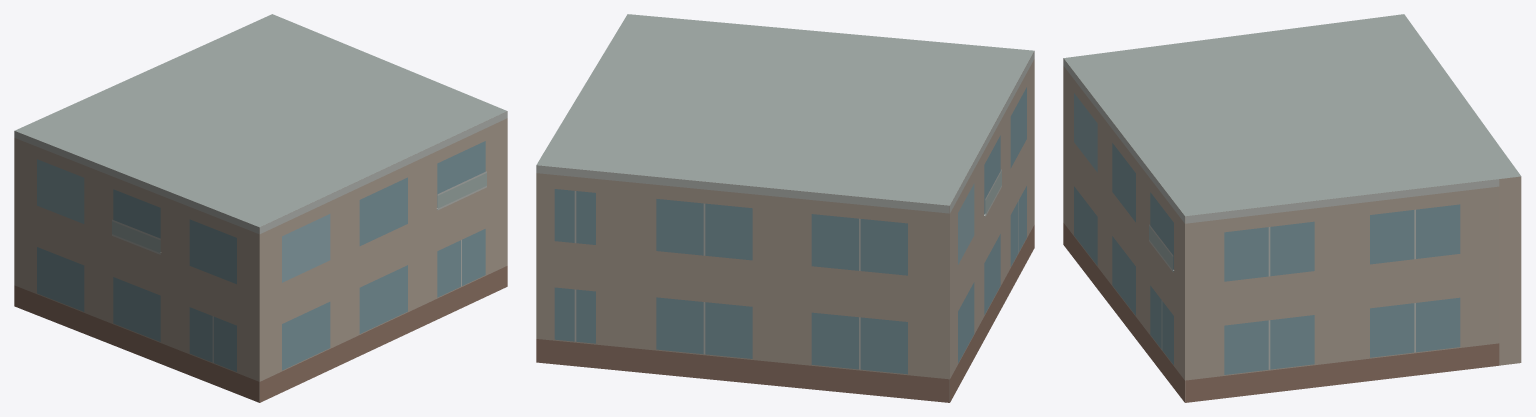
File: survey-upis-32469574.glb
3 views of the same model, side by side, from view 1: azimuth 30°, elevation 25°; view 2: azimuth 150°, elevation 25°; view 3: azimuth 270°, elevation 25° (orthographic). The views are drawn at different scales.
Parts seen in each view (by area): view 1: survey-upis-32469574.tmp; view 2: survey-upis-32469574.tmp; view 3: survey-upis-32469574.tmp.
Boxes of the visible parts, bbox=[...] form: survey-upis-32469574.tmp: bbox=[14, 14, 507, 402]; survey-upis-32469574.tmp: bbox=[536, 14, 1034, 402]; survey-upis-32469574.tmp: bbox=[1063, 14, 1521, 402].
Bounding box in the file's own units: 14.2 × 6.1 × 13.58.
